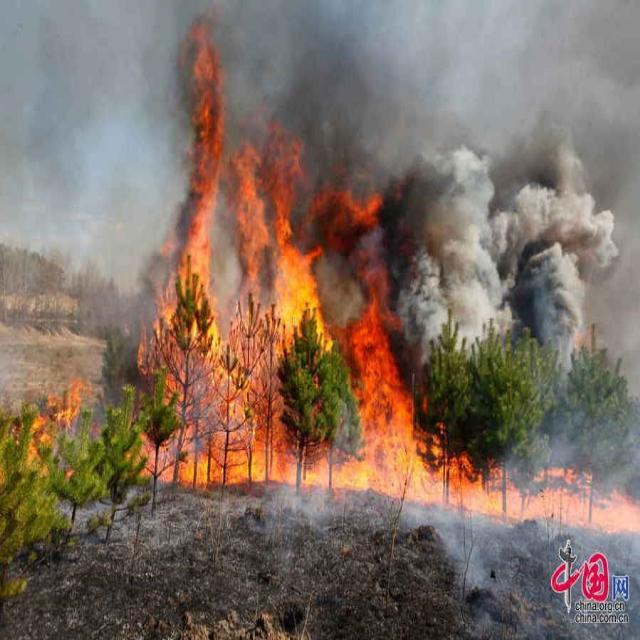Fire: (138, 19, 640, 532), (26, 376, 92, 468)
Smoke: (52, 1, 640, 640)
